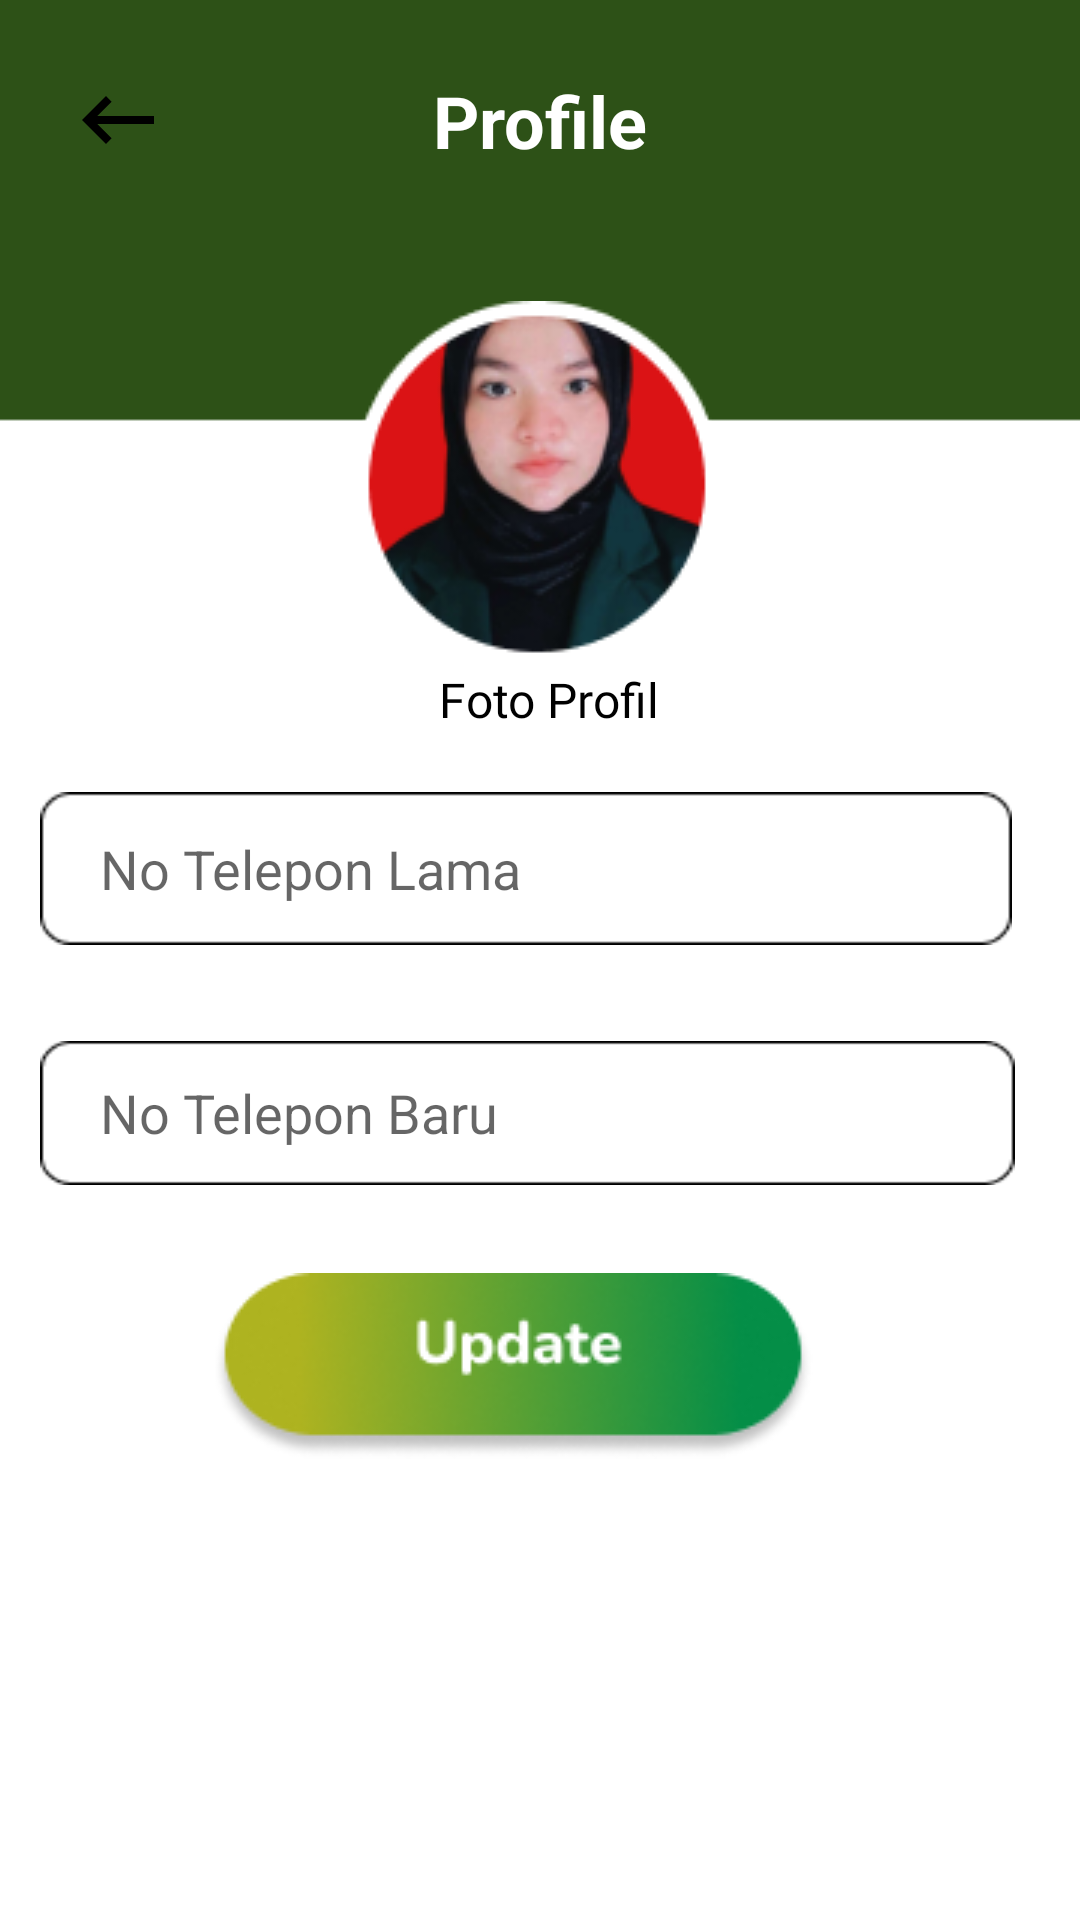

Screen size 1080w x 1920h. Icon name, then its box in pixels as (x1, y1, x2, y2):
back: (82, 96, 154, 144)
